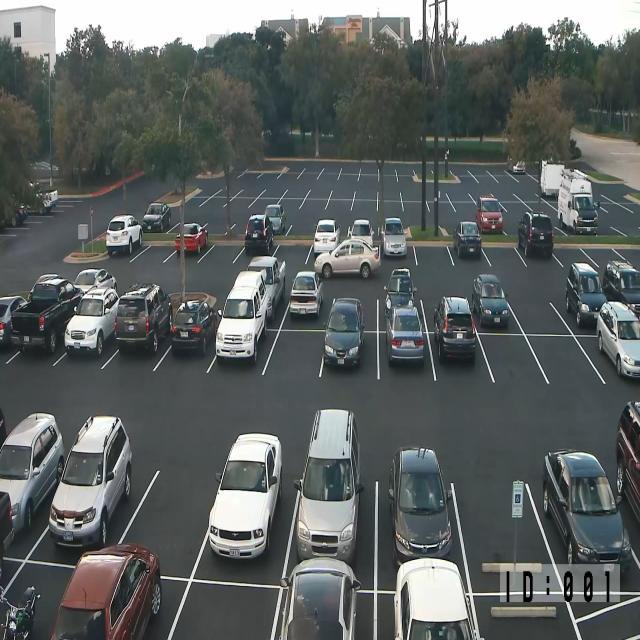car: (48, 414, 132, 548), (293, 407, 364, 564), (542, 449, 631, 570), (50, 543, 162, 639), (208, 432, 282, 560), (0, 412, 65, 538), (388, 445, 452, 567), (270, 556, 361, 640), (394, 557, 483, 639), (10, 273, 84, 354), (215, 270, 269, 364), (114, 282, 172, 354), (64, 285, 119, 357), (596, 301, 640, 378), (615, 398, 640, 522), (323, 296, 365, 368), (433, 295, 476, 363), (565, 261, 607, 327), (314, 238, 381, 279), (170, 298, 217, 356), (246, 255, 286, 322), (558, 170, 598, 236), (384, 304, 425, 364), (0, 584, 41, 640), (602, 260, 640, 317), (472, 274, 509, 327), (517, 210, 554, 258), (289, 270, 323, 318), (383, 267, 417, 314), (106, 214, 142, 255), (0, 295, 27, 347), (0, 490, 15, 577), (73, 268, 118, 296), (244, 213, 274, 254), (313, 218, 341, 259), (475, 195, 503, 234), (174, 222, 208, 254), (454, 220, 482, 258), (381, 217, 407, 256), (142, 202, 171, 232), (347, 218, 374, 248), (264, 203, 286, 235), (30, 160, 58, 172), (0, 407, 7, 452), (43, 188, 58, 208), (16, 203, 28, 224), (572, 168, 588, 180), (512, 160, 526, 173)
